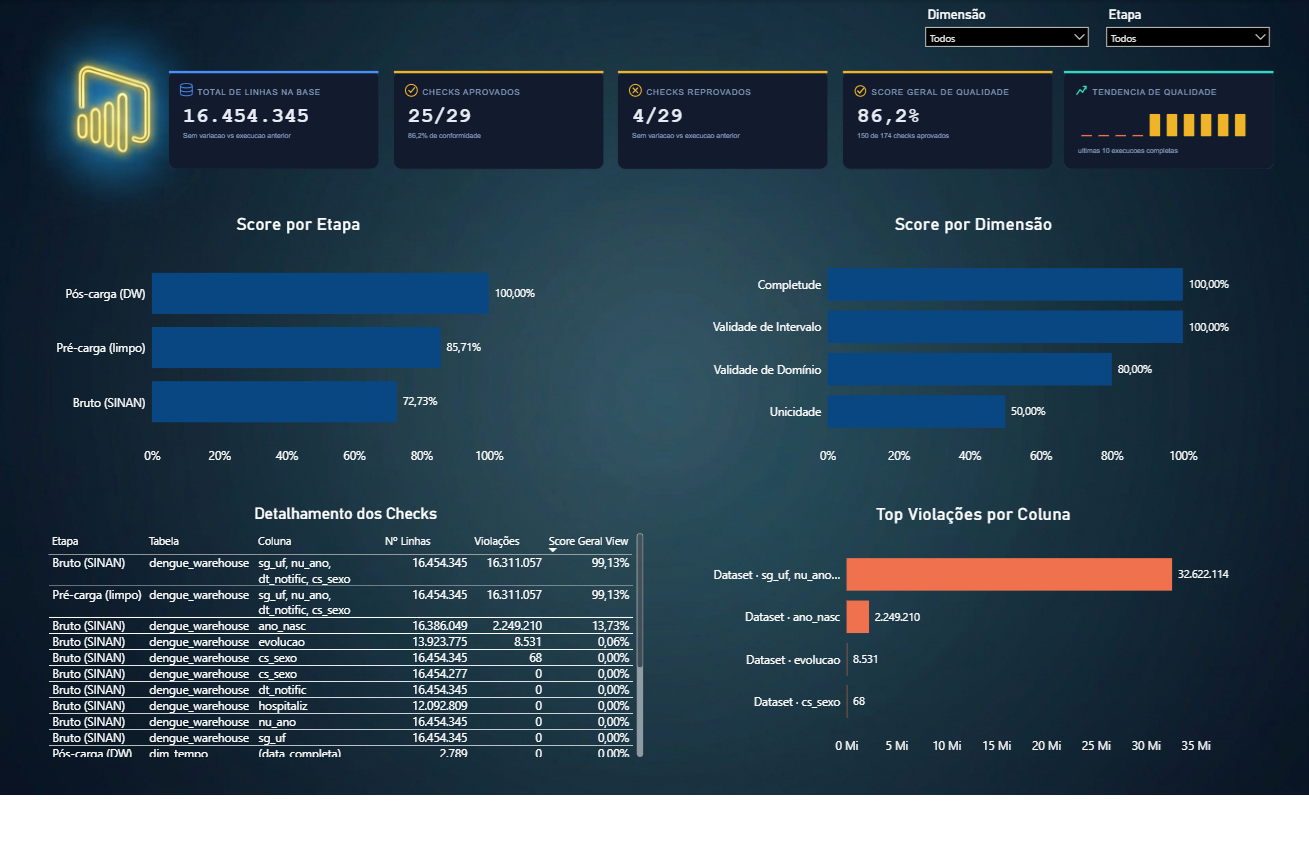

Layout of this report page (visuals, bound fields, positions):
{"tool":"powerbi","page":{"name":"Governança","canvas":[1800,1100],"ordinal":0},"visuals":[{"type":"htmlContent443BE3AD55E043BF878BED274D3A6855","fields":{"content":["Medidas.SVG KPI Score Geral"]},"box":[1150.7,91.9,297.6,176.9],"z":0},{"type":"htmlContent443BE3AD55E043BF878BED274D3A6855","fields":{"content":["Medidas.SVG KPI Tendencia"]},"box":[1453.9,91.9,297.6,176.9],"z":1000},{"type":"htmlContent443BE3AD55E043BF878BED274D3A6855","fields":{"content":["Medidas.SVG KPI Checks Reprovados"]},"box":[842.1,91.9,297.6,176.9],"z":3000},{"type":"barChart","title":"Score por Etapa","fields":{"Category":["public fato_dq_metrica.Etapa Formatada"],"Y":["Medidas.Score Geral"]},"box":[60.3,293.5,698.1,352.5],"z":4000},{"type":"barChart","title":"Score por Dimensão","fields":{"Category":["public dim_dimensao_qualidade.Dimensao Formatada"],"Y":["Medidas.Score Geral"]},"box":[960.1,293.5,750.2,352.5],"z":5000},{"type":"tableEx","title":"Detalhamento dos Checks","fields":{"Values":["public vw_governanca_qualidade.Etapa Formatada","public vw_governanca_qualidade.tabela","public vw_governanca_qualidade.coluna","public vw_governanca_qualidade.total_linhas","public vw_governanca_qualidade.qtd_violacoes","Medidas.Score Geral View"]},"box":[60.3,691.3,827.1,352.5],"z":6000},{"type":"slicer","fields":{"Values":["public fato_dq_metrica.Etapa Formatada"]},"box":[1507.4,4.1,244.1,80.9],"z":7001},{"type":"slicer","fields":{"Values":["public dim_dimensao_qualidade.Dimensao Formatada"]},"box":[1259.1,4.1,244.1,80.9],"z":7002},{"type":"htmlContent443BE3AD55E043BF878BED274D3A6855","fields":{"content":["Medidas.SVG KPI Total Linhas"]},"box":[226.3,91.9,297.6,176.9],"z":7003},{"type":"barChart","title":"Top Violações por Coluna","fields":{"Category":["public dim_ativo.Ativo Formatado"],"Y":["Medidas.Violacoes Ultima Execucao"]},"box":[960.1,691.3,750.2,352.5],"z":7004},{"type":"htmlContent443BE3AD55E043BF878BED274D3A6855","fields":{"content":["Medidas.SVG KPI Checks Aprovados"]},"box":[534.9,91.9,297.6,176.9],"z":7005}]}

Visuals, with their boxes on the page's 1800x1100 design canvas (x1, y1, x2, y2). These are canvas units, not pixel positions in the 1309x842 screenshot, which may show the page scaled, cropped or inside an application window:
htmlContent443BE3AD55E043BF878BED274D3A6855 - Medidas.SVG KPI Score Geral: bbox(1151, 92, 1448, 269)
htmlContent443BE3AD55E043BF878BED274D3A6855 - Medidas.SVG KPI Tendencia: bbox(1454, 92, 1752, 269)
htmlContent443BE3AD55E043BF878BED274D3A6855 - Medidas.SVG KPI Checks Reprovados: bbox(842, 92, 1140, 269)
"Score por Etapa" barChart: bbox(60, 294, 758, 646)
"Score por Dimensão" barChart: bbox(960, 294, 1710, 646)
"Detalhamento dos Checks" tableEx: bbox(60, 691, 887, 1044)
slicer - public fato_dq_metrica.Etapa Formatada: bbox(1507, 4, 1752, 85)
slicer - public dim_dimensao_qualidade.Dimensao Formatada: bbox(1259, 4, 1503, 85)
htmlContent443BE3AD55E043BF878BED274D3A6855 - Medidas.SVG KPI Total Linhas: bbox(226, 92, 524, 269)
"Top Violações por Coluna" barChart: bbox(960, 691, 1710, 1044)
htmlContent443BE3AD55E043BF878BED274D3A6855 - Medidas.SVG KPI Checks Aprovados: bbox(535, 92, 832, 269)
